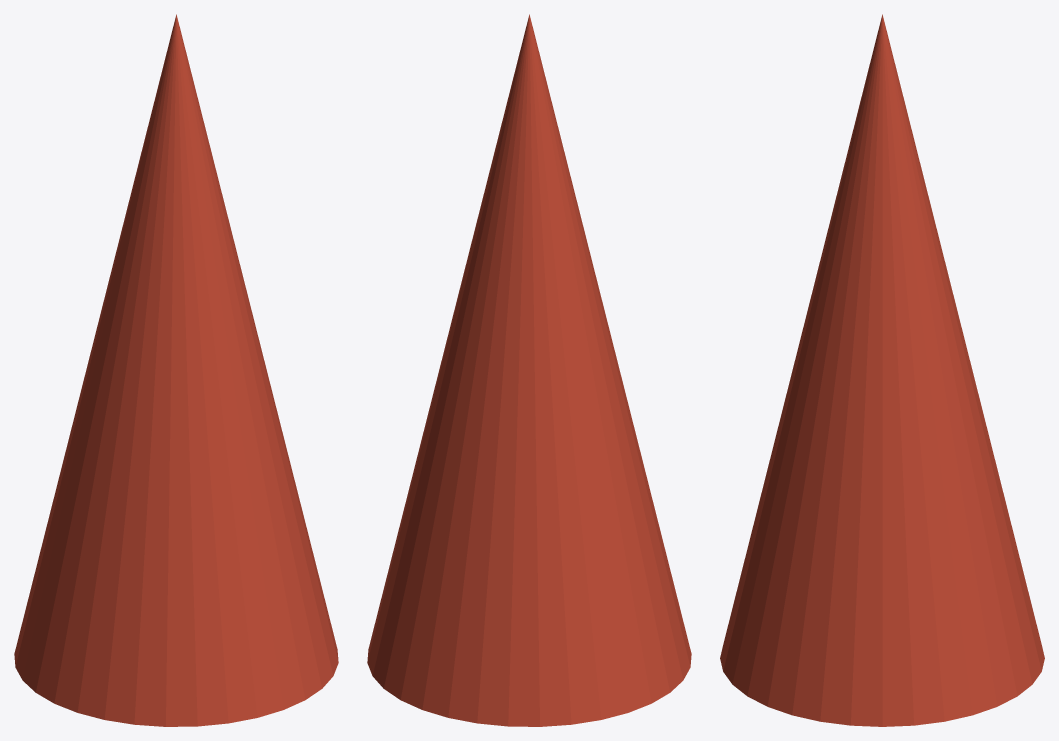
The model's file is trundle-cone.fbx.
The picture shows the model from 3 angles, left to right: view 1: azimuth 30°, elevation 25°; view 2: azimuth 150°, elevation 25°; view 3: azimuth 270°, elevation 25°; orthographic projection.
Visible parts, largest first — view 1: Cone; view 2: Cone; view 3: Cone.
Part boxes in pixels (x1,y1,x2,y2): Cone: (14,14,338,726); Cone: (367,14,691,726); Cone: (720,14,1044,726).
Bounding box in the file's own units: 91.4 × 200 × 91.4.
